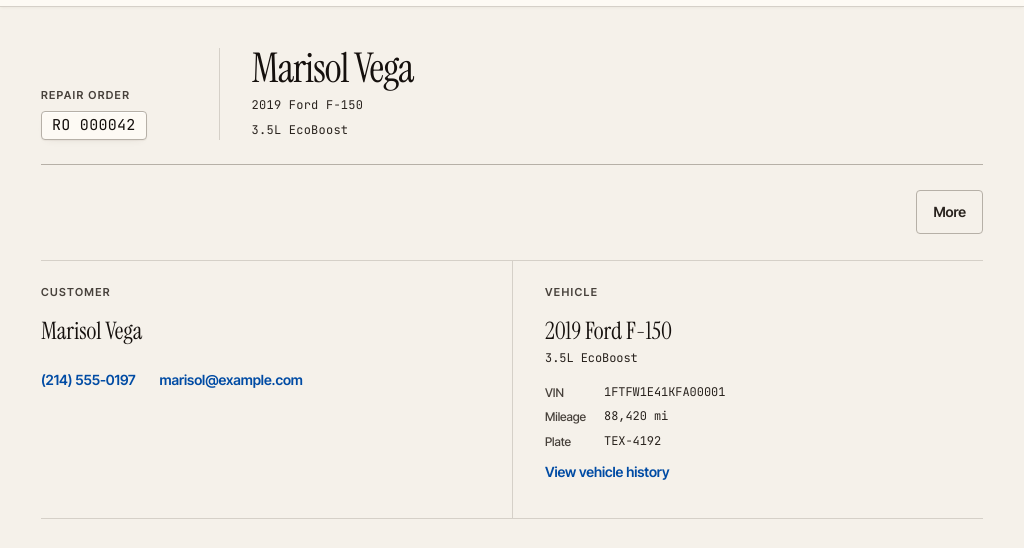
TicketDetailScreen › hides a competing direct-work fallback while the job-owned builder is mounted
Click the button "More" at [950, 212], box [916,190,983,234]
(page scrolled)
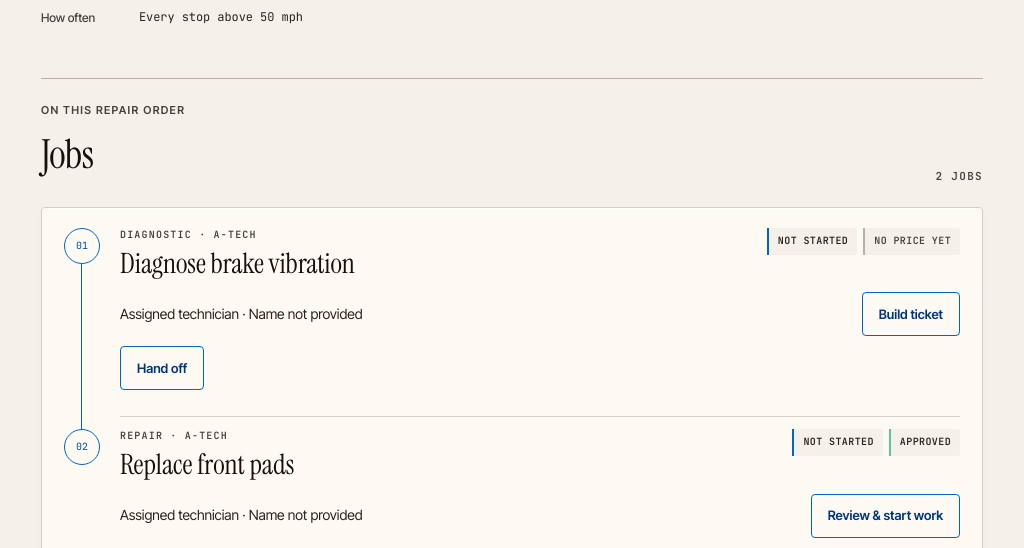
Click the button "Build ticket" at [911, 314], box [862,292,960,336]
(page scrolled)
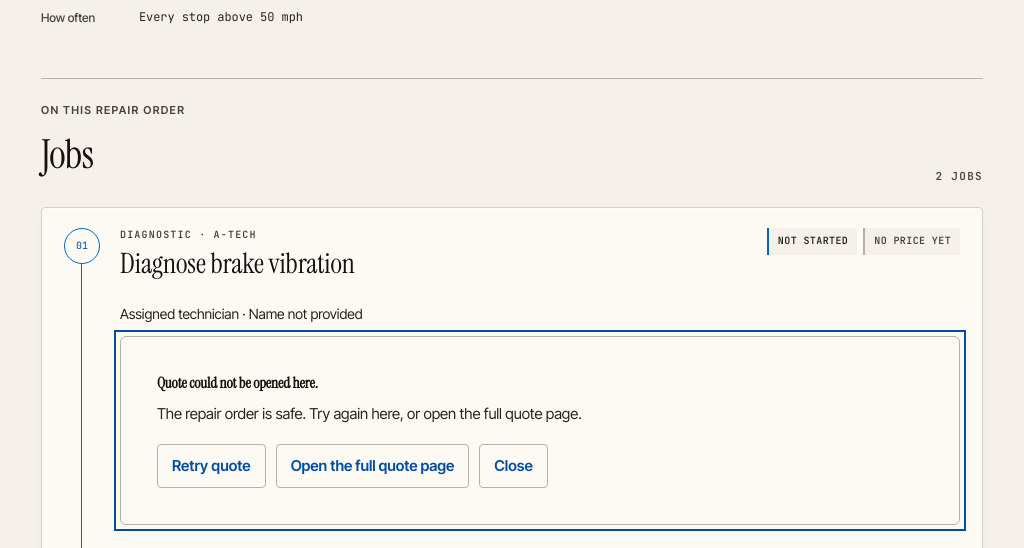
Result: the element named "Quote for this repair order" is shown at [120,336,960,525]
Result: the button "Review & start work" is gone
